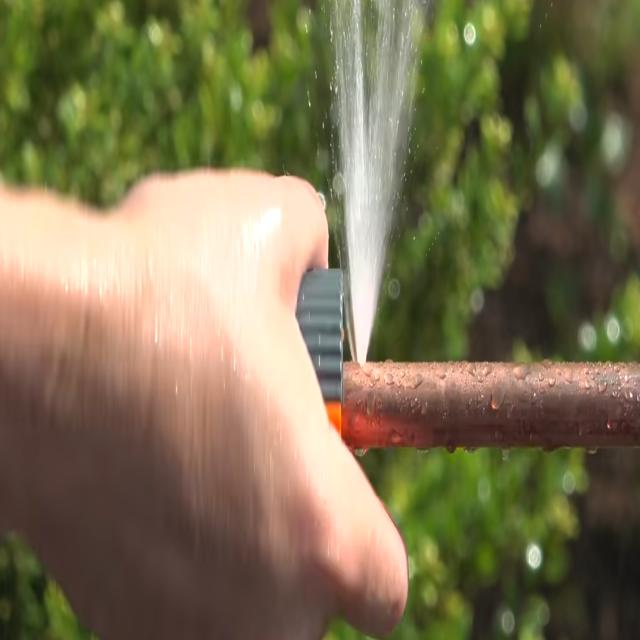leak: (316, 0, 436, 365)
